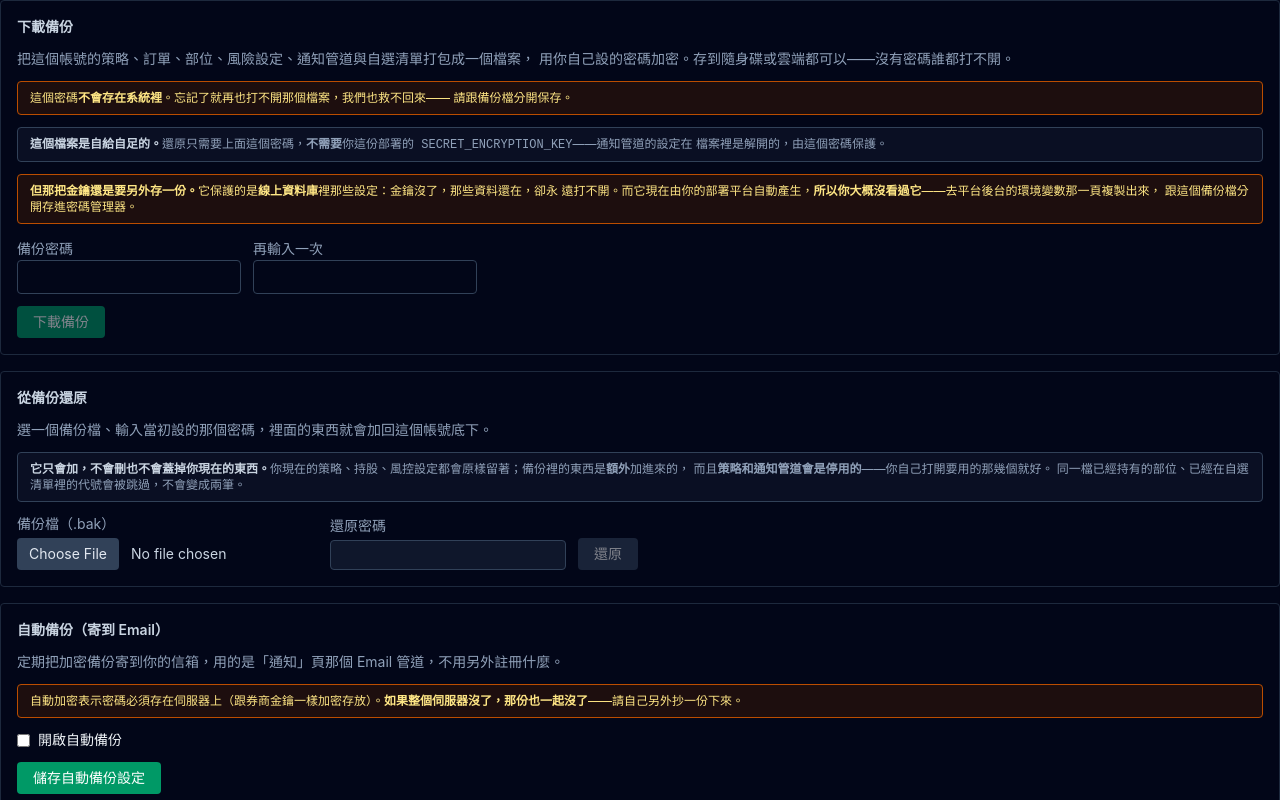
Test: BackupPanel › says so when the download fails rather than looking like it worked
Type "a-long-enough-passphrase" into the password field labelled "備份密碼". click: x=129, y=277
box: [17,260,241,294]
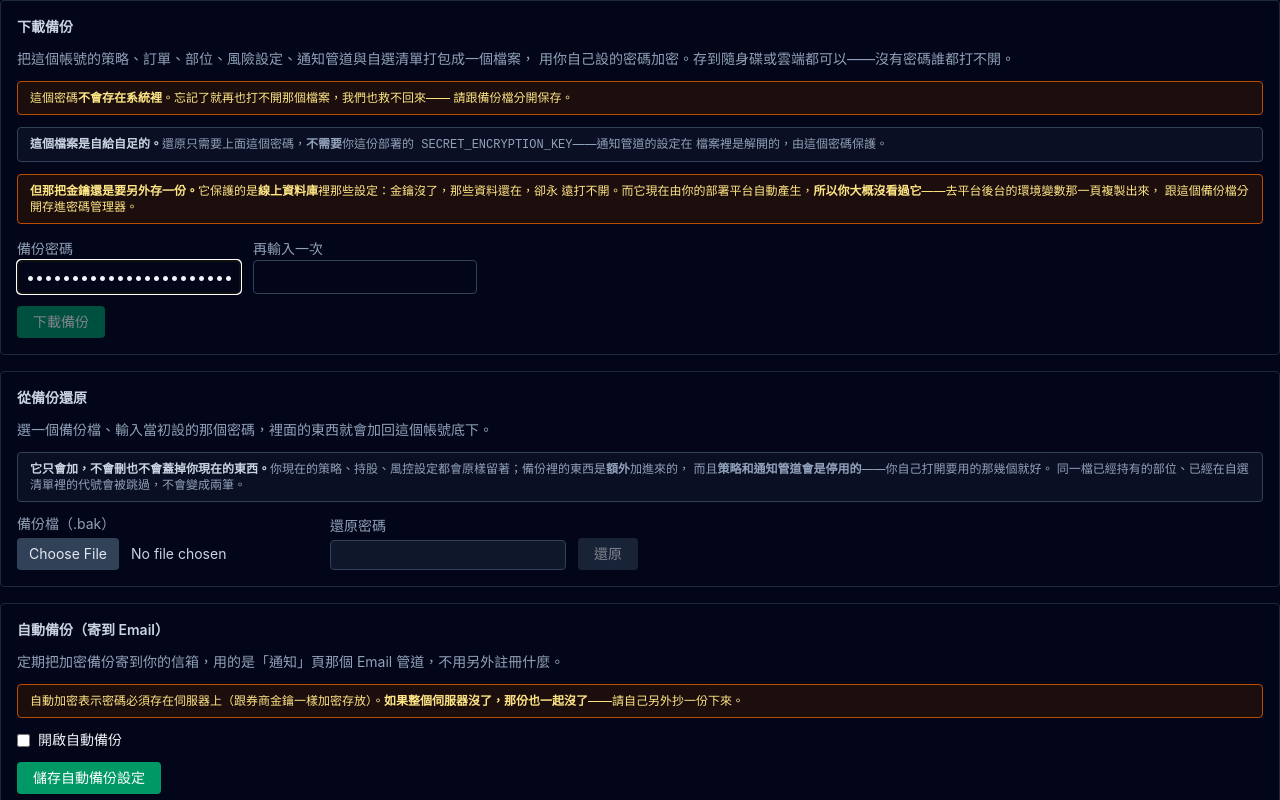
Type "a-long-enough-passphrase" into the password field labelled "再輸入一次". click: x=365, y=277
box: [253,260,477,294]
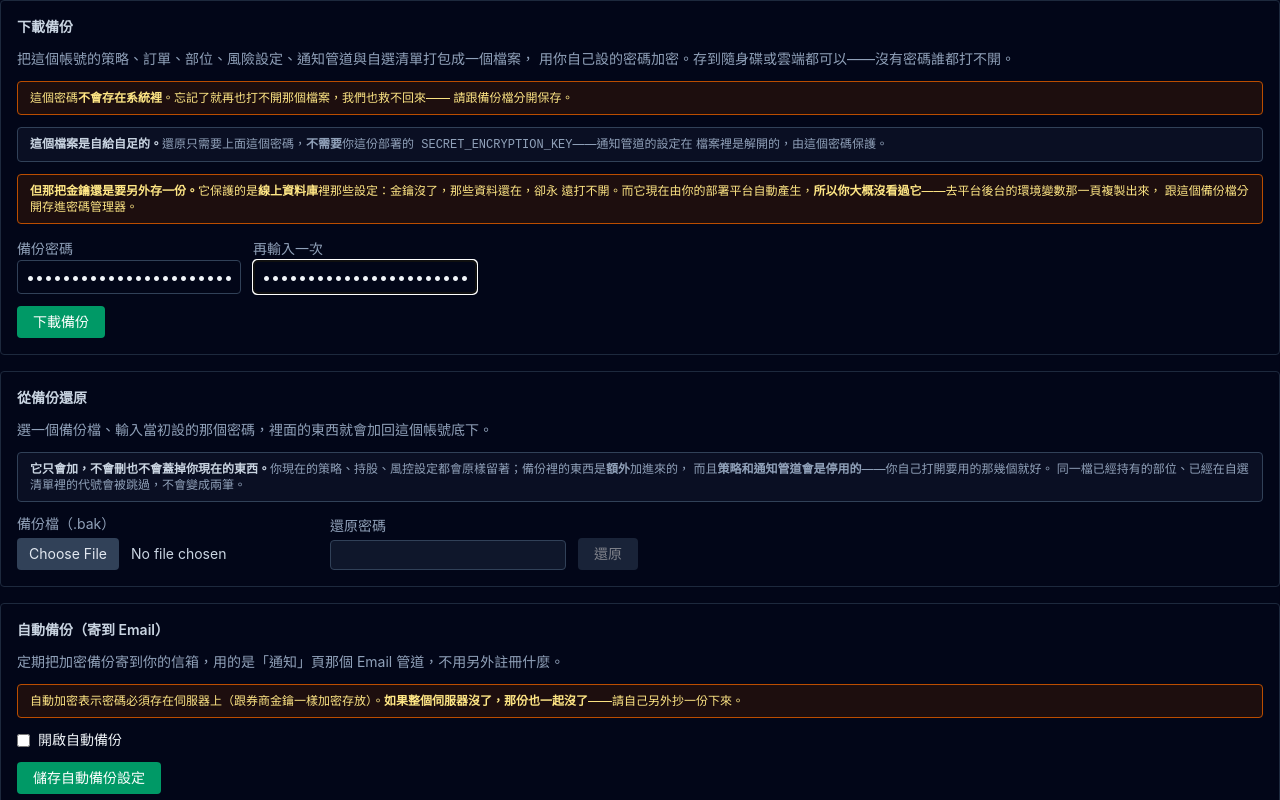
Click the button "下載備份". click: x=61, y=322
box: [17,306,105,338]
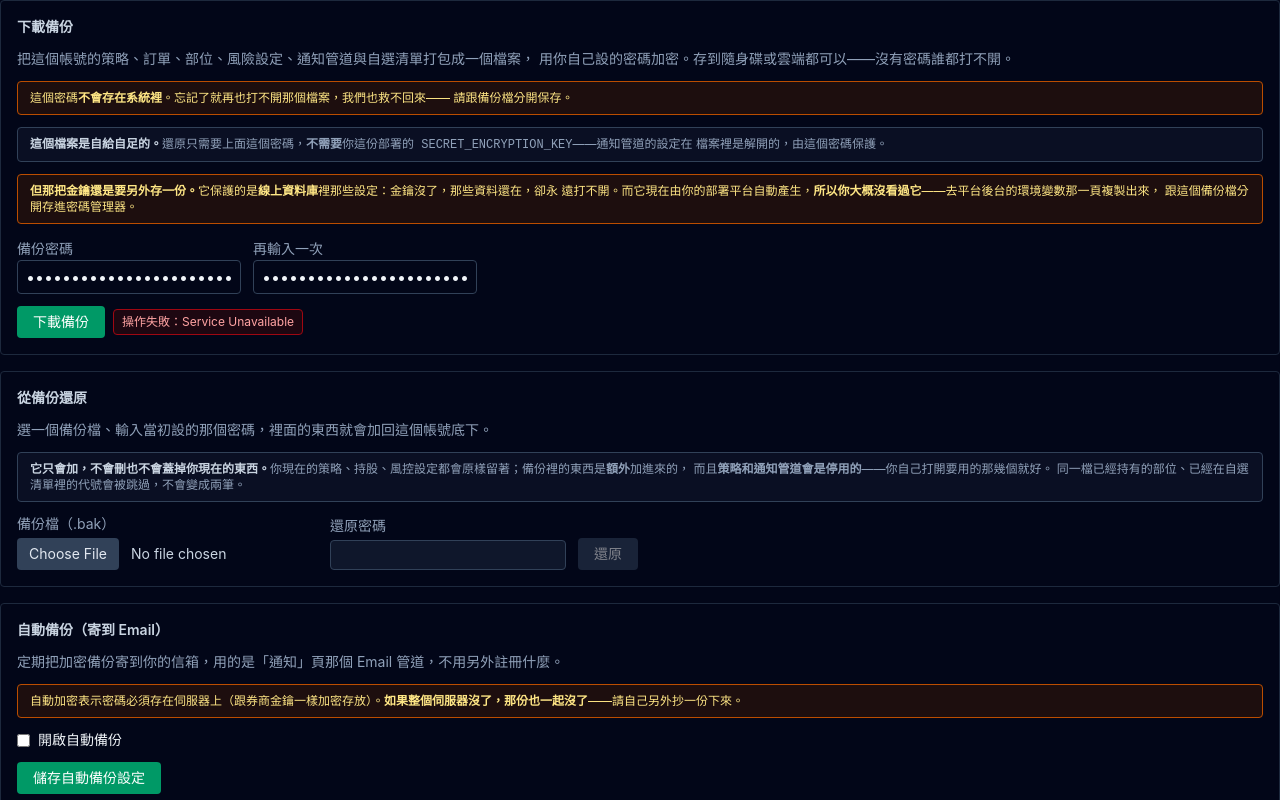
Check: the message shows "Service Unavailable", box [182,314,294,329]
